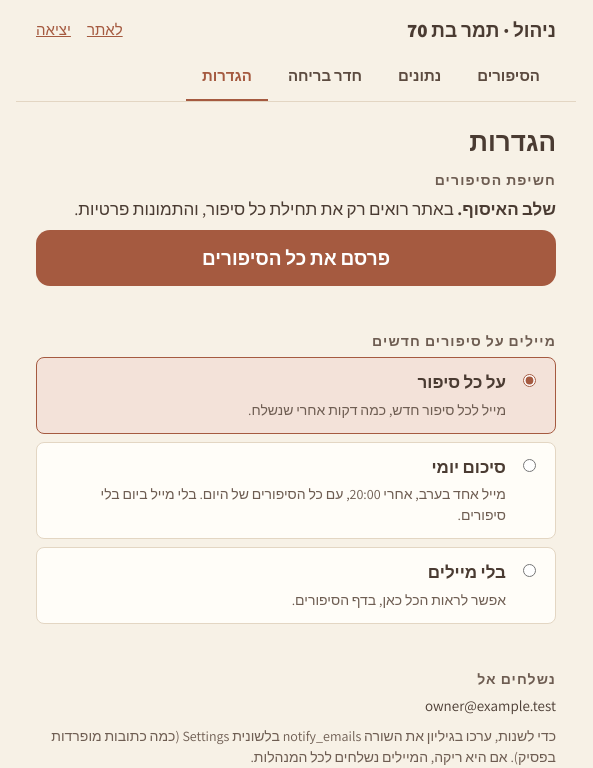
Test case: admin pages › changes how often emails go out and sends a test email
Expected: the radio button labelled "על כל סיפור מייל לכל סיפור חדש, כמה דקות אחרי שנשלח." is checked, [523, 374, 536, 388]
Step 1. Click the radio button labelled "סיכום יומי" → (530, 466), box [523, 459, 536, 472]
(page scrolled)
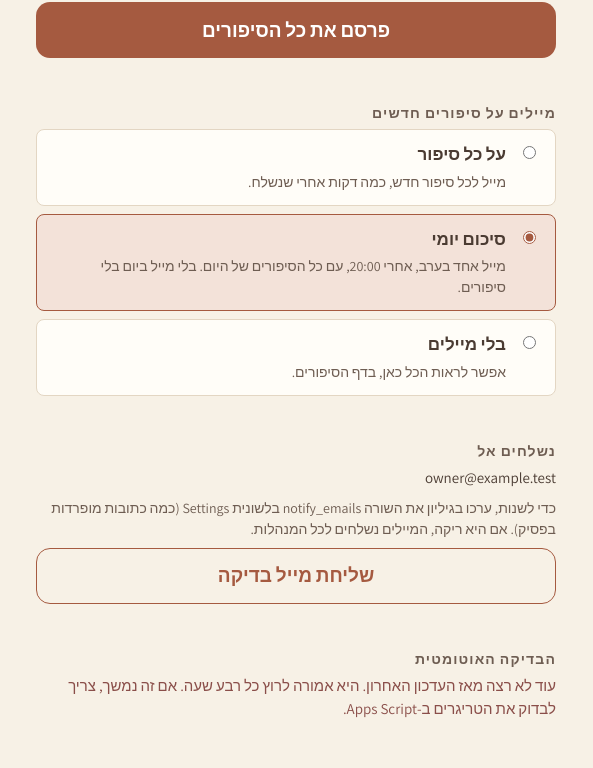
Expected: the radio button labelled "סיכום יומי" is checked, [523, 231, 536, 244]
Step 2. Click the button "שליחת מייל בדיקה" → (296, 576), box [36, 548, 556, 604]
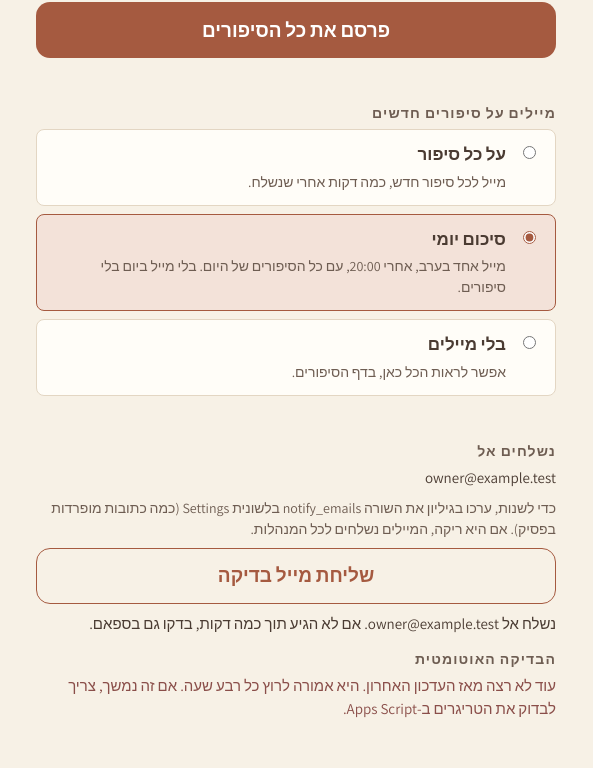
Expected: the text "נשלח אל" shows "owner@example.test", [368, 614, 499, 633]
